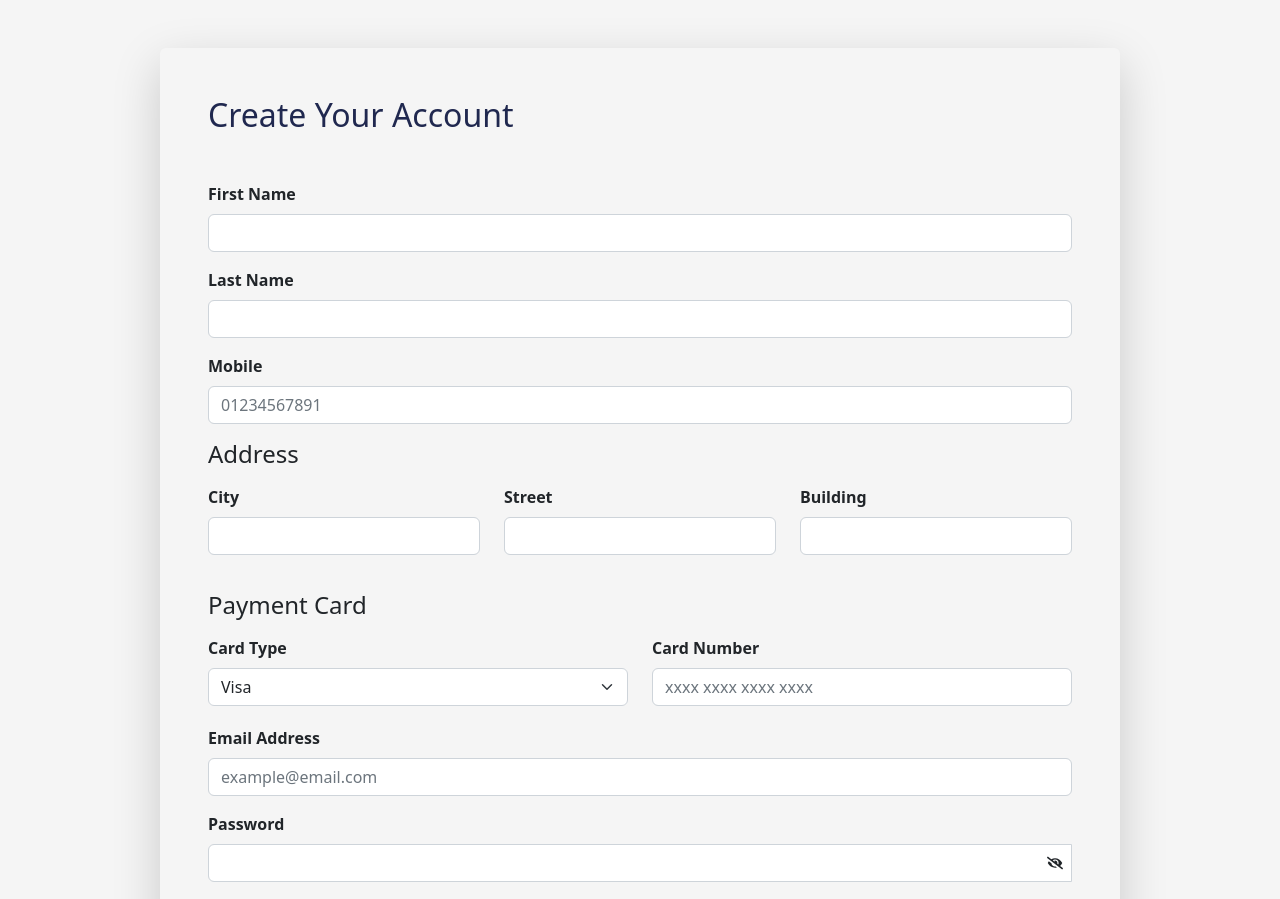
it: choose a strong password
Type "1234" into the password field labelled "Password". click: (640, 863)
box: [208,844,1072,882]
(page scrolled)
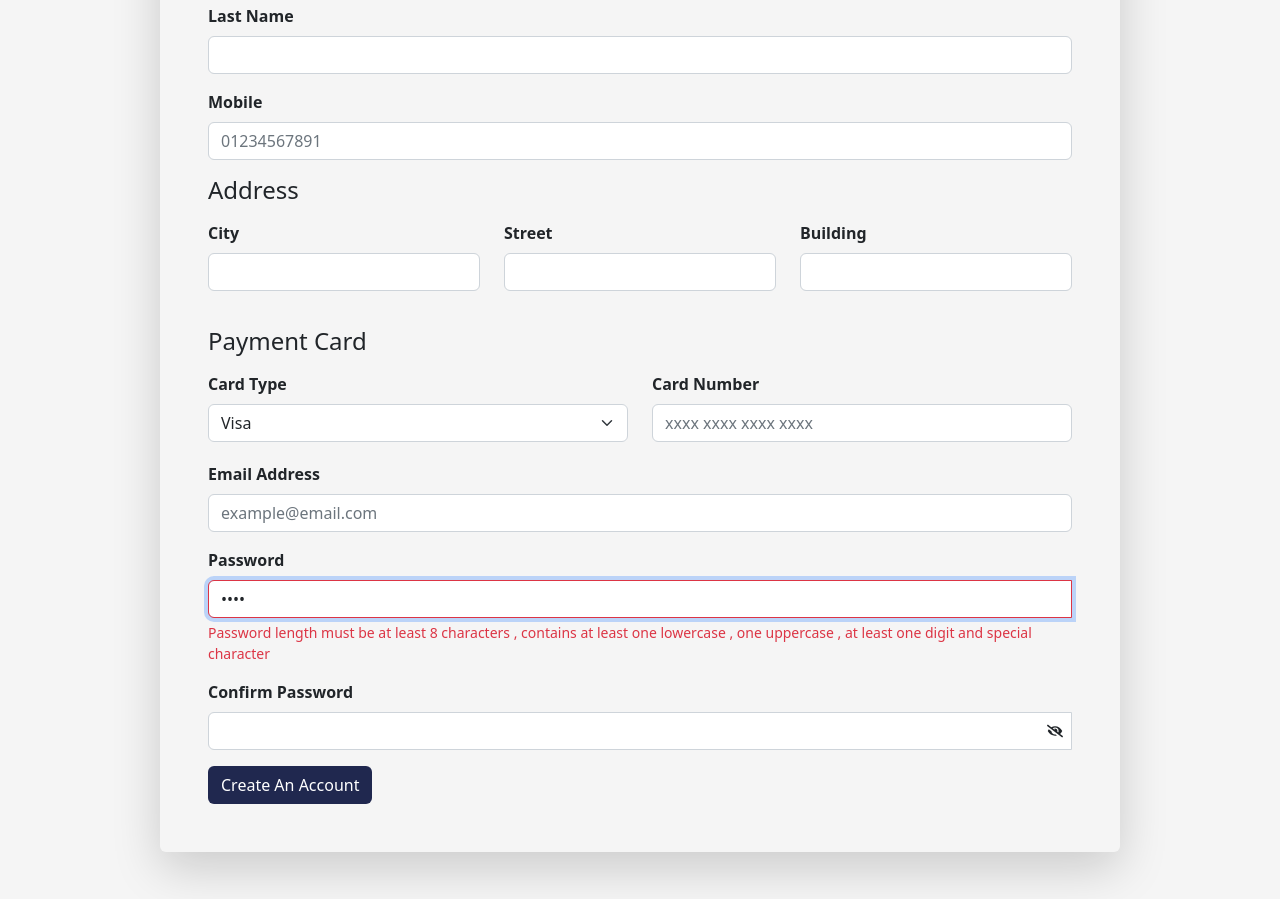
Expected: the text "Password length must be at least 8 characters" is shown, [208,623,1032,663]
